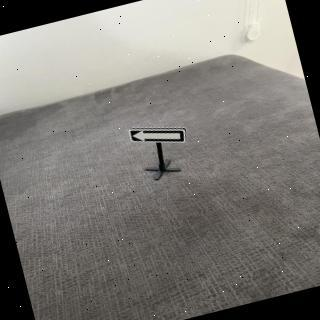sign_oneway_left: (127, 114, 192, 159)
